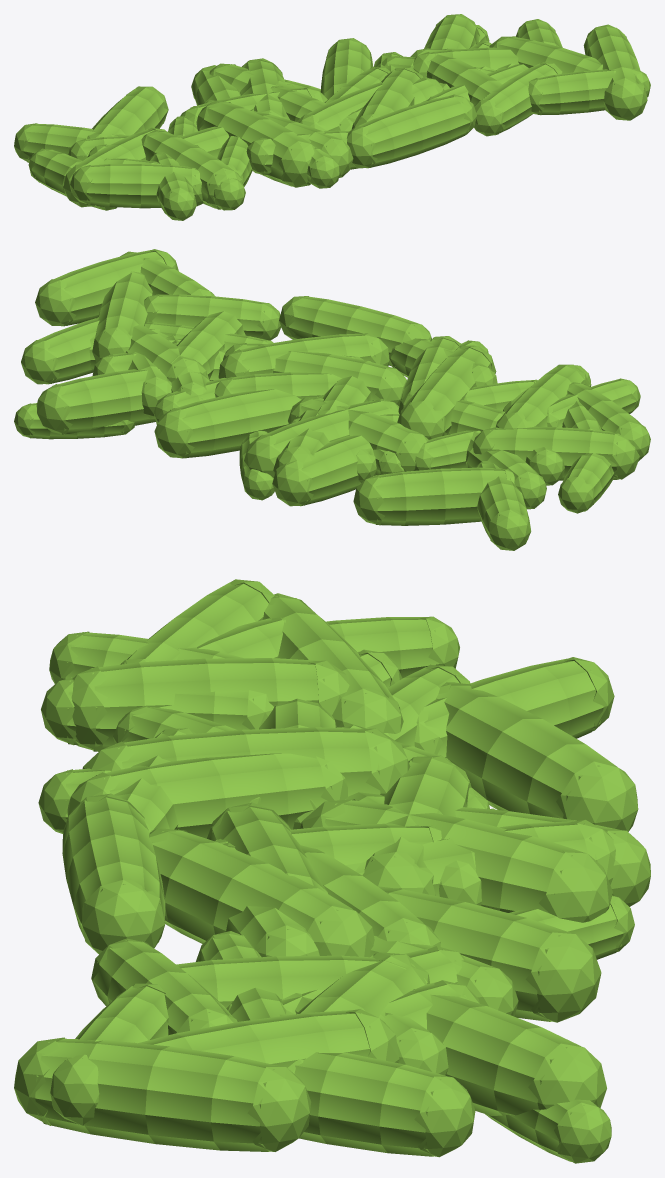
File: pickle.fbx
The picture shows the model from 3 angles, top to bottom: view 1: azimuth 30°, elevation 25°; view 2: azimuth 150°, elevation 25°; view 3: azimuth 270°, elevation 25°; orthographic projection. The views are drawn at different scales.
Parts seen in each view (by area): view 1: group846859389.047; view 2: group846859389.047; view 3: group846859389.047.
Boxes of the visible parts, x1,y1,x2,y2 form: group846859389.047: (14,14,650,220); group846859389.047: (14,249,650,550); group846859389.047: (14,579,650,1163).
Size of the model in its own units: 1315 by 178 by 659.
